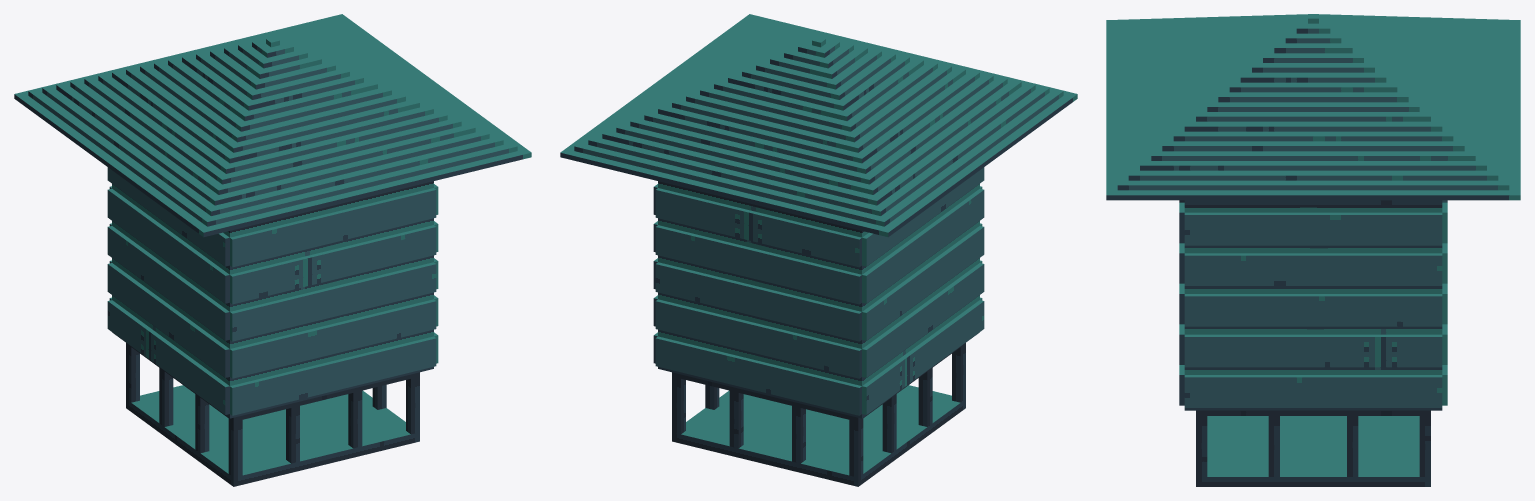
File: nuzu_watertowerao.fezao.glb
3 views of the same model, side by side, from view 1: azimuth 30°, elevation 25°; view 2: azimuth 150°, elevation 25°; view 3: azimuth 270°, elevation 25° (orthographic). The views are drawn at different scales.
Visible parts, largest first — view 1: NUZU_WATERTOWERAO; view 2: NUZU_WATERTOWERAO; view 3: NUZU_WATERTOWERAO.
Boxes of the visible parts, x1=… form: NUZU_WATERTOWERAO: x1=14, y1=14, x2=531, y2=486; NUZU_WATERTOWERAO: x1=560, y1=14, x2=1077, y2=486; NUZU_WATERTOWERAO: x1=1106, y1=14, x2=1520, y2=486.
Bounding box in the file's own units: 4.62 × 5.19 × 4.62.
Materials: 1 (1 with a texture image).
